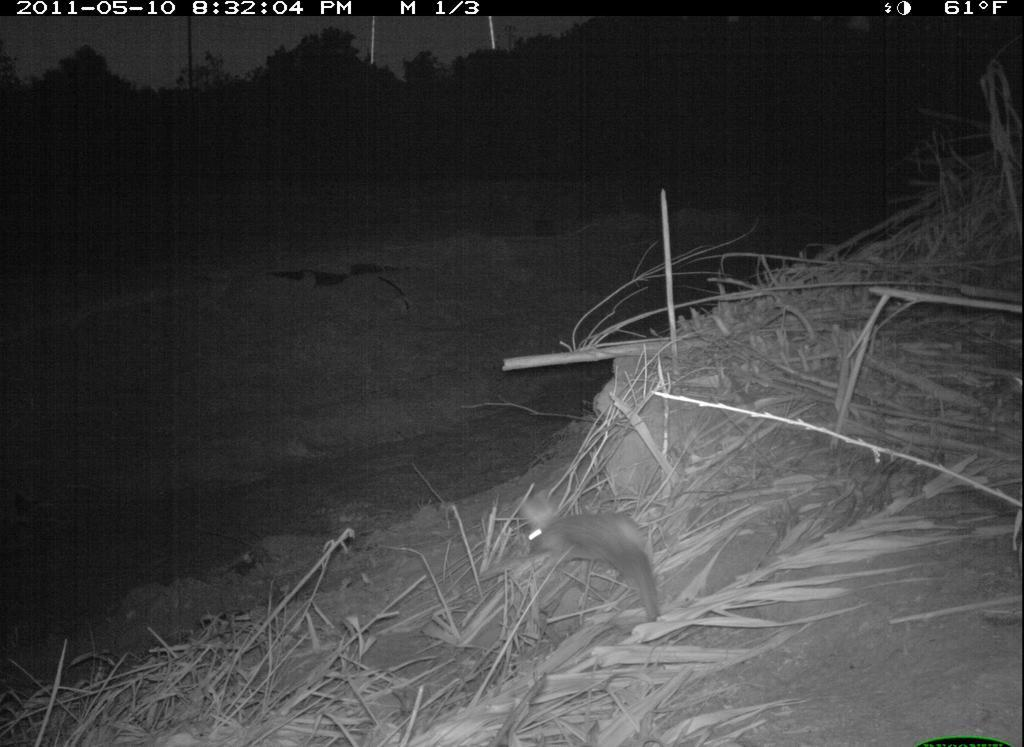rabbit: (507, 486, 675, 625)
